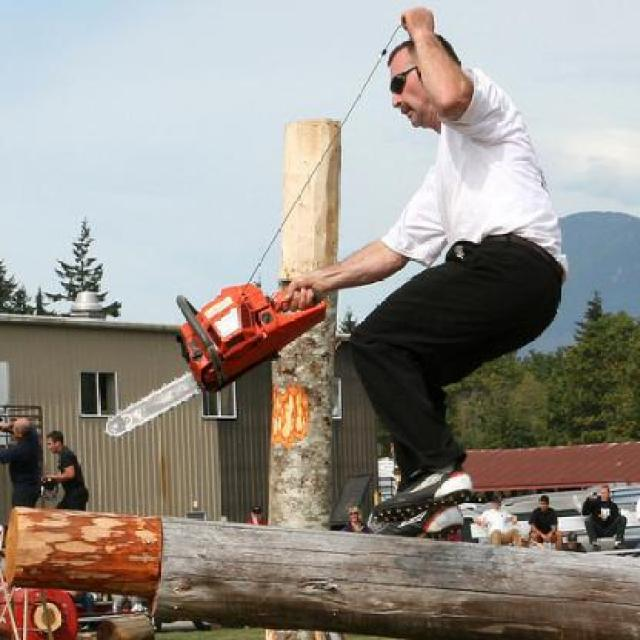Chainsaw: (97, 277, 323, 443)
